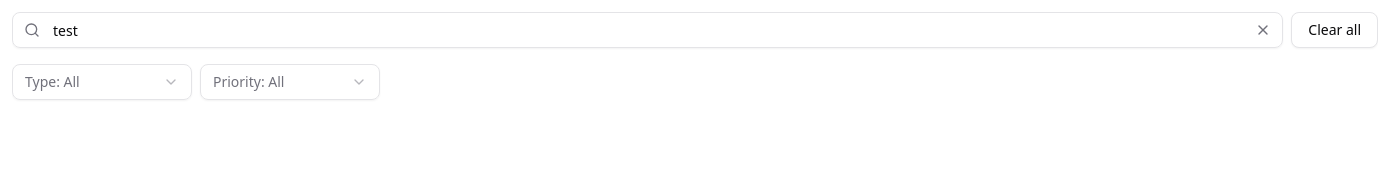
it: ConversationSearchBar › Search Input › should clear query when clicking clear icon
This screenshot has width=1390, height=172.
Click the button named "Clear search" at (1263,30), box 1255,22 -> 1271,38
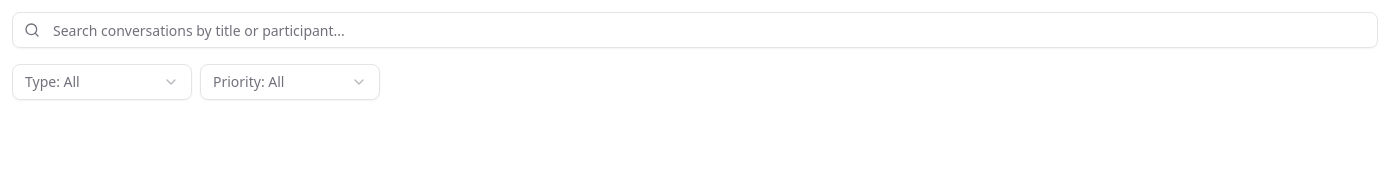
Result: the search field with placeholder "Search conversations by title or participant..." is empty at 12,12 -> 1378,48
